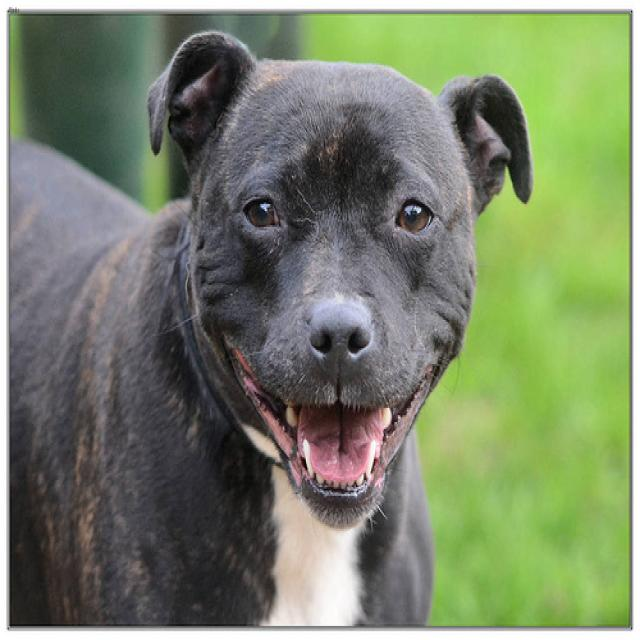dog-staffordshire_bull_terrier: (1, 18, 540, 636)
